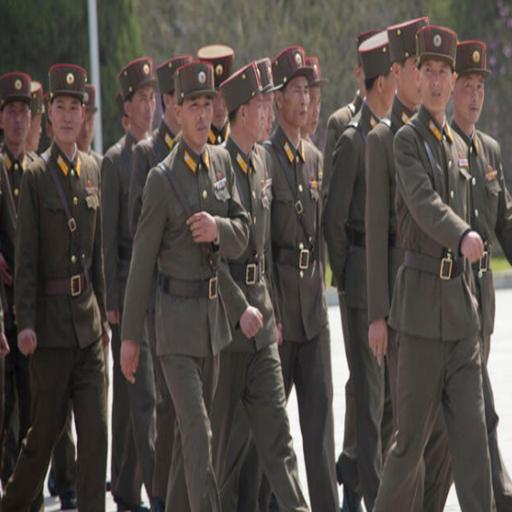north army: (39, 41, 512, 456)
